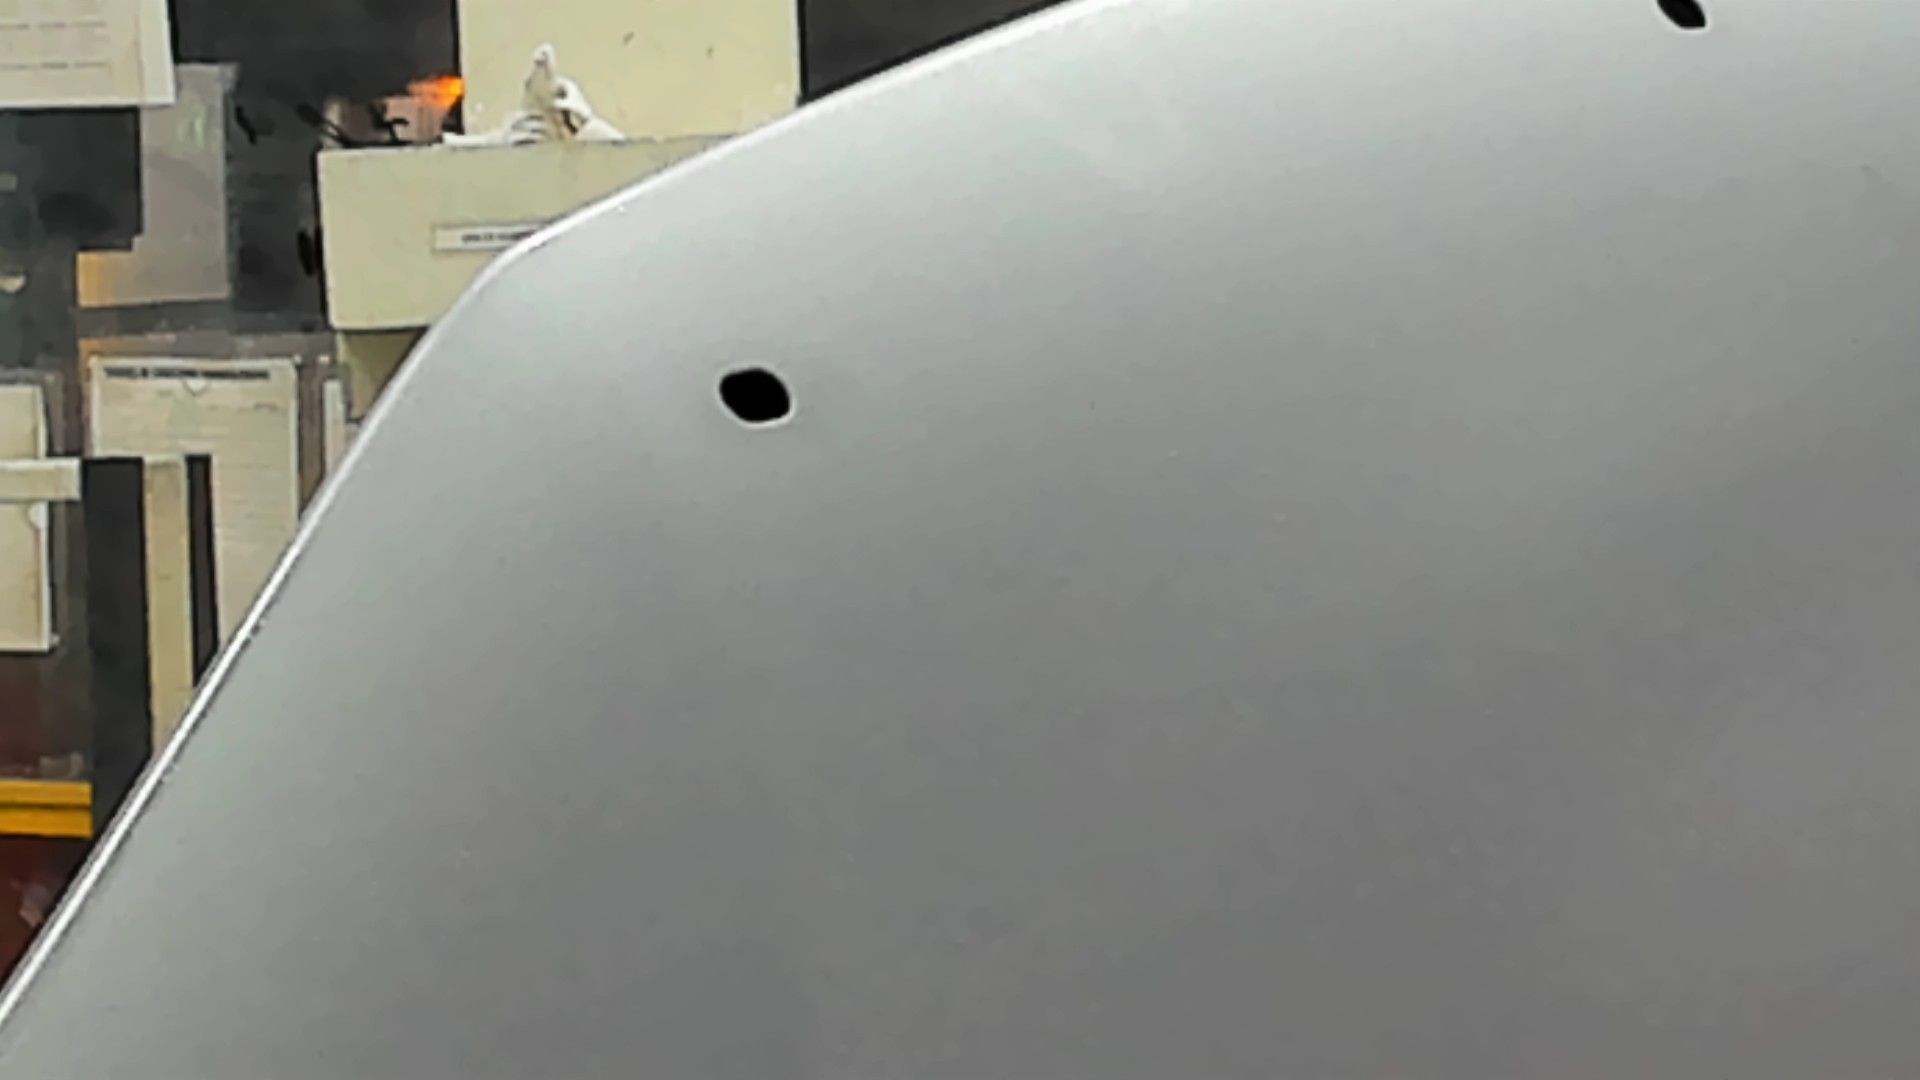Agujero: (716, 367, 794, 425), (1656, 1, 1708, 32)
